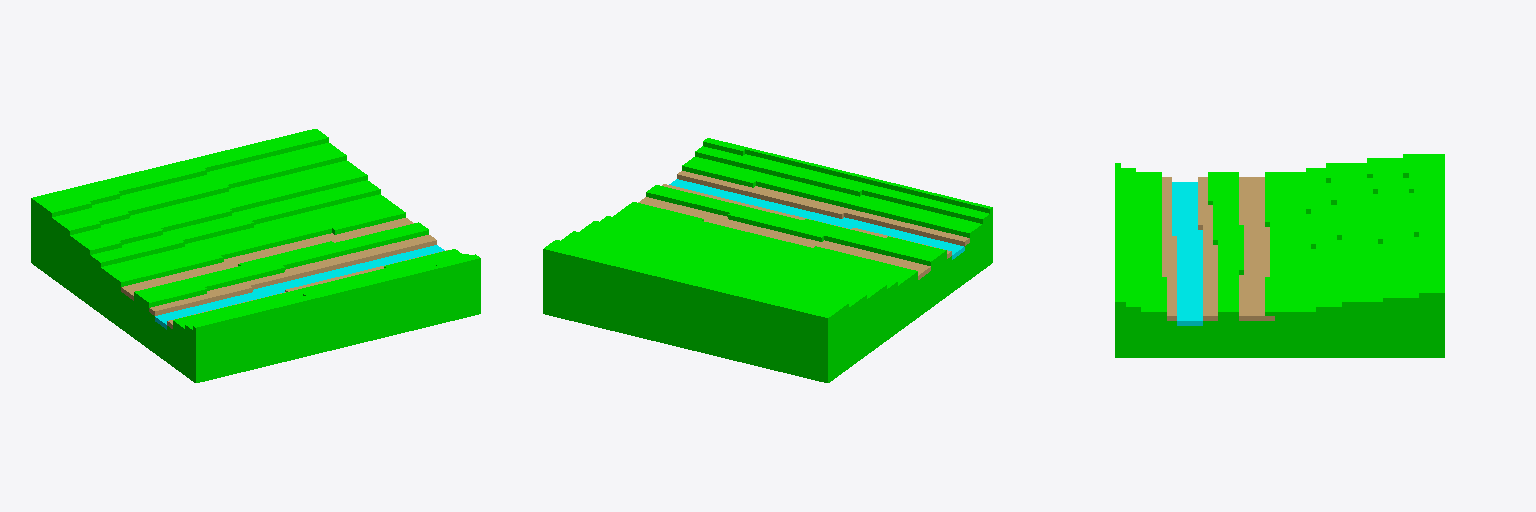
3 renders of one model, left to right at view 1: azimuth 30°, elevation 25°; view 2: azimuth 150°, elevation 25°; view 3: azimuth 270°, elevation 25°, orthographic.
Parts seen in each view (by area): view 1: Block1x1; view 2: Block1x1; view 3: Block1x1.
Part boxes in pixels (x1,y1,x2,y2): Block1x1: (31,129,480,382); Block1x1: (543,138,992,382); Block1x1: (1115,154,1444,357).
Bounding box in the file's own units: 64 × 14 × 64.
1 materials, 1 textured.